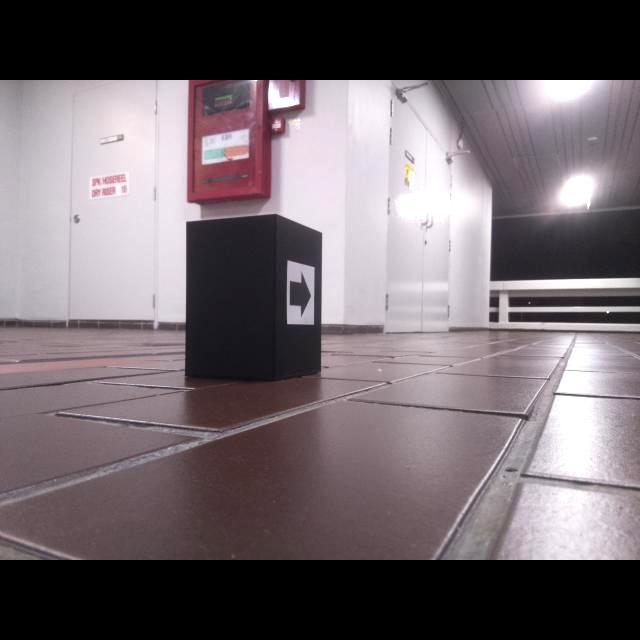RIGHT: (289, 273, 311, 318)
